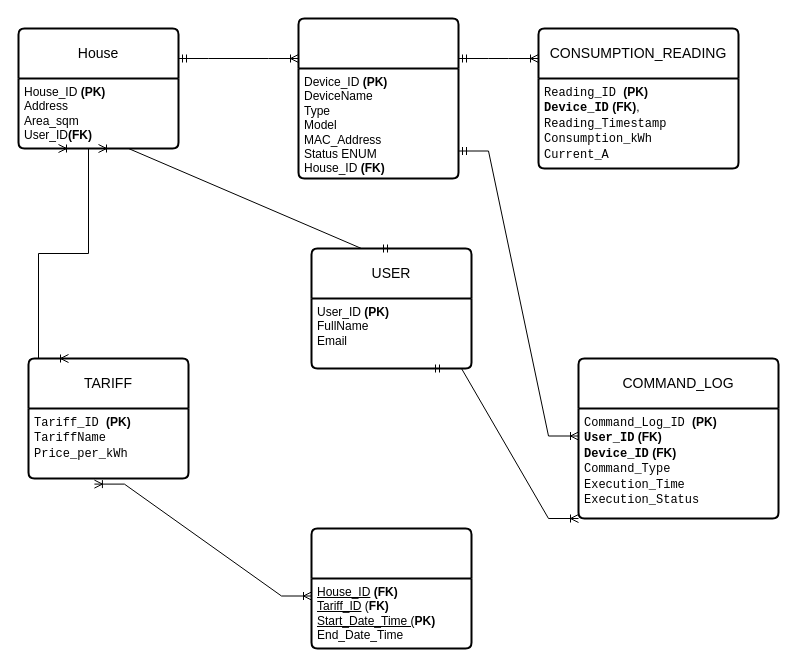
This 796x666 diagram has some shape labels left out. The box of each missing label's shape, as (x1, y1, x2, y2) in pixels:
APPLIED_TARIFF: (310, 527, 472, 649)
SMART_DEVICE: (297, 17, 459, 179)
